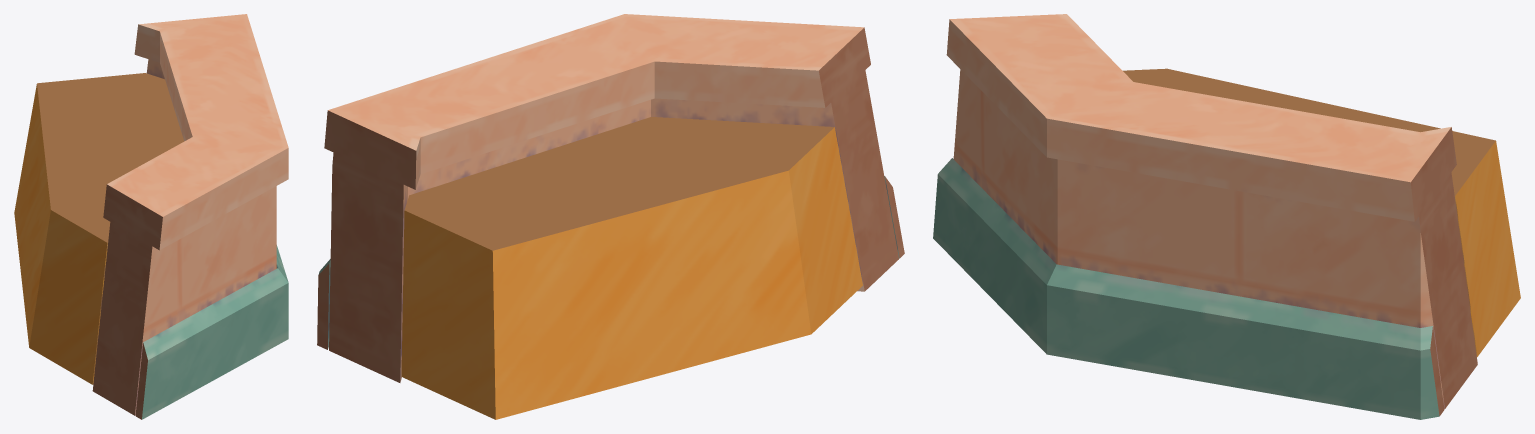
The model's file is vat_saffron_s05.fbx.
The picture shows the model from 3 angles, left to right: view 1: azimuth 30°, elevation 25°; view 2: azimuth 150°, elevation 25°; view 3: azimuth 270°, elevation 25°; orthographic projection. The views are drawn at different scales.
Parts seen in each view (by area): view 1: vat_saffron_s05; view 2: vat_saffron_s05; view 3: vat_saffron_s05.
Part boxes in pixels (x1=…): vat_saffron_s05: x1=14, y1=14, x2=288, y2=419; vat_saffron_s05: x1=317, y1=14, x2=904, y2=419; vat_saffron_s05: x1=933, y1=14, x2=1520, y2=419.
Size of the model in its own units: 2.96 by 1.7 by 3.84.
